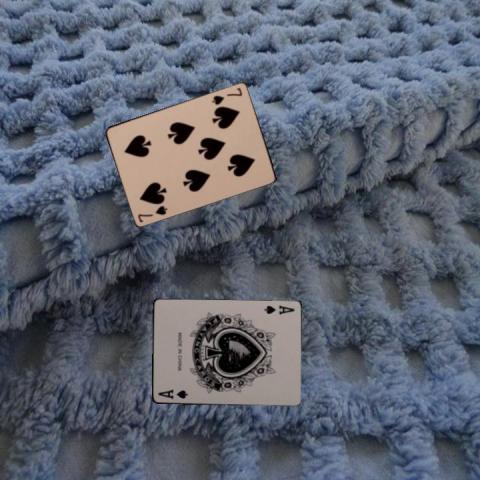7s: (209, 85, 243, 106), (134, 202, 168, 223)
As: (261, 302, 296, 316), (154, 387, 188, 400)
